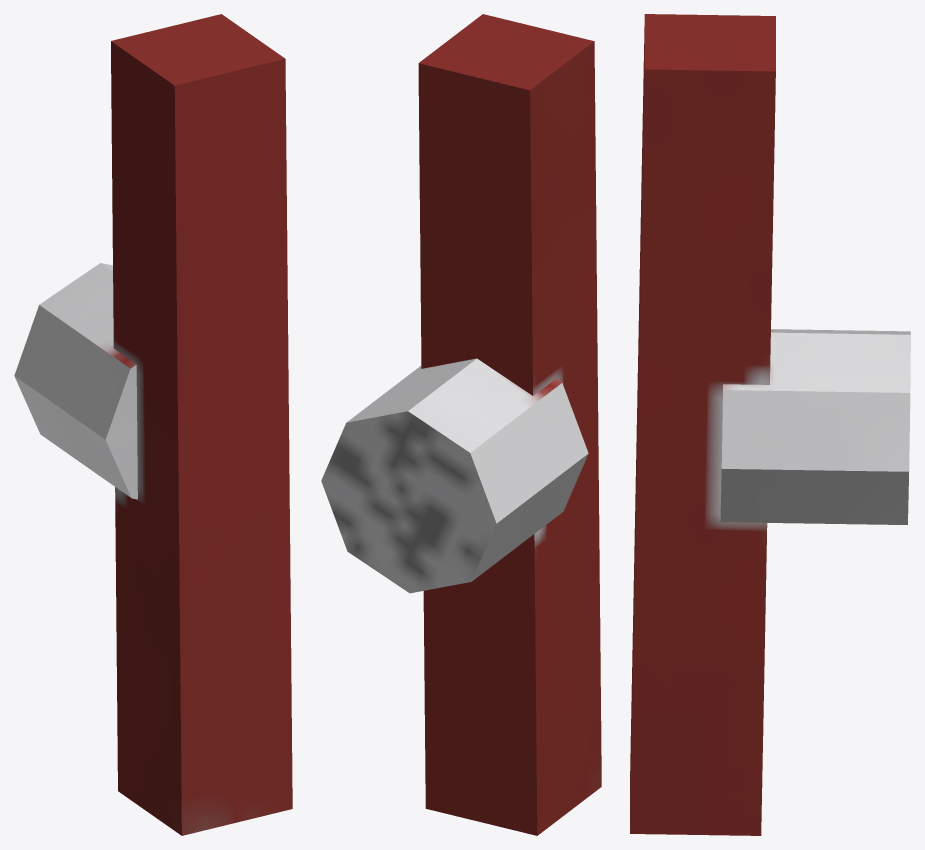
File: StandaloneRedLever.fbx
The picture shows the model from 3 angles, left to right: view 1: azimuth 30°, elevation 25°; view 2: azimuth 150°, elevation 25°; view 3: azimuth 270°, elevation 25°; orthographic projection. The views are drawn at different scales.
Parts seen in each view (by area): view 1: Lever.001; view 2: Lever.001; view 3: Lever.001.
Boxes of the visible parts, x1,y1,x2,y2 form: Lever.001: (14,14,292,835); Lever.001: (321,14,601,835); Lever.001: (630,14,910,835).
Bounding box in the file's own units: 0.0446 × 0.183 × 0.0608.
